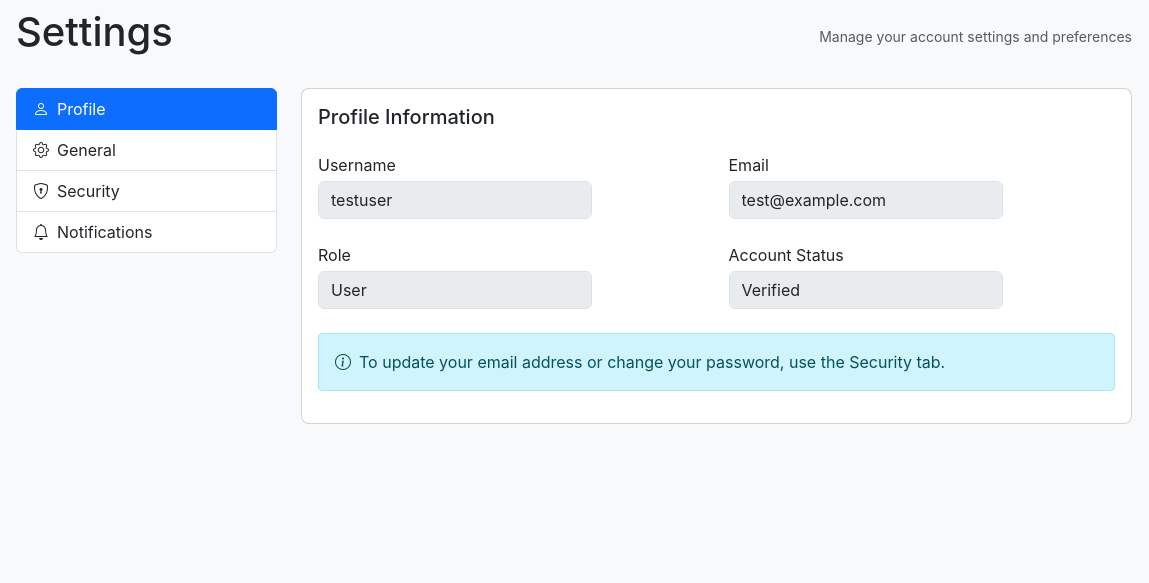
Test case: Settings Component › validates password mismatch
Click the button "Security": (88, 191) [16,171,277,212]
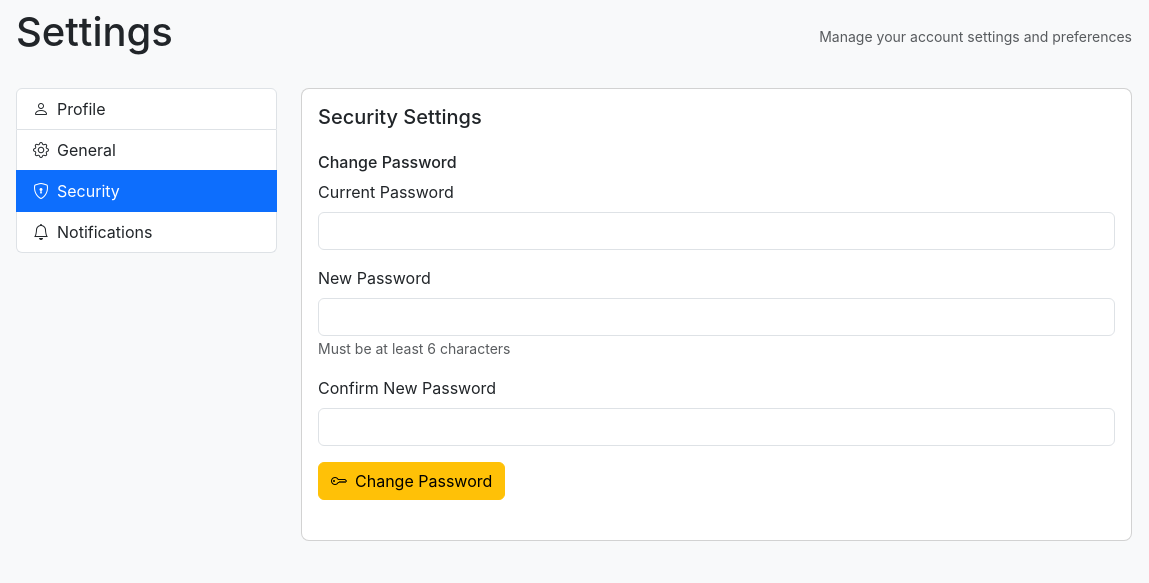
expect the password field labelled "Current Password" is shown: met
In the password field labelled "Current Password": (716, 231) [318,212,1115,250], type "oldPassword123"
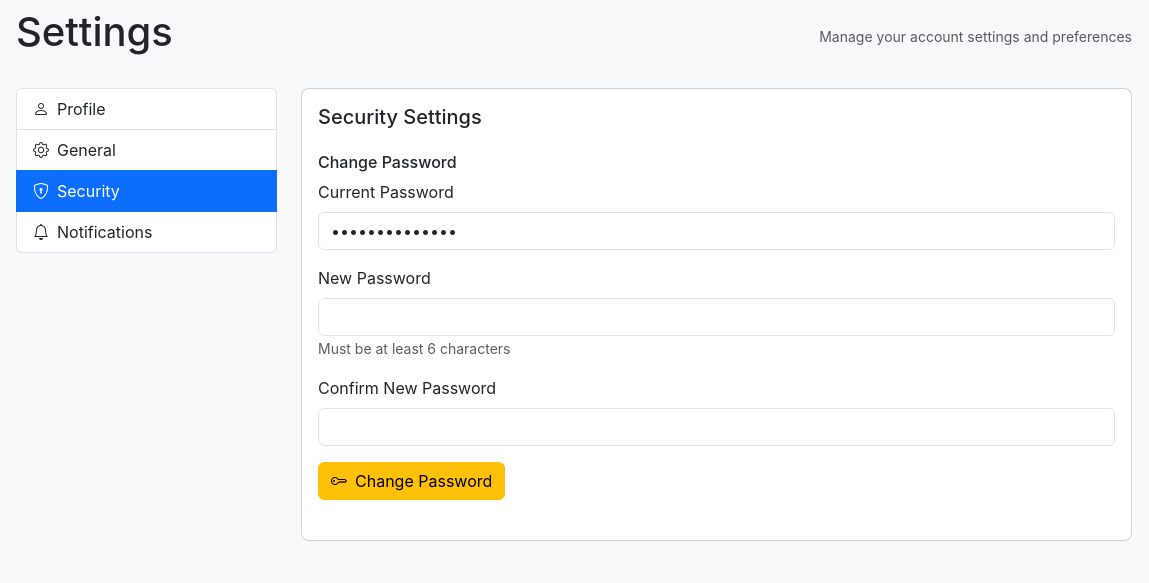
In the password field labelled "New Password": (716, 317) [318,298,1115,336], type "newPassword123"
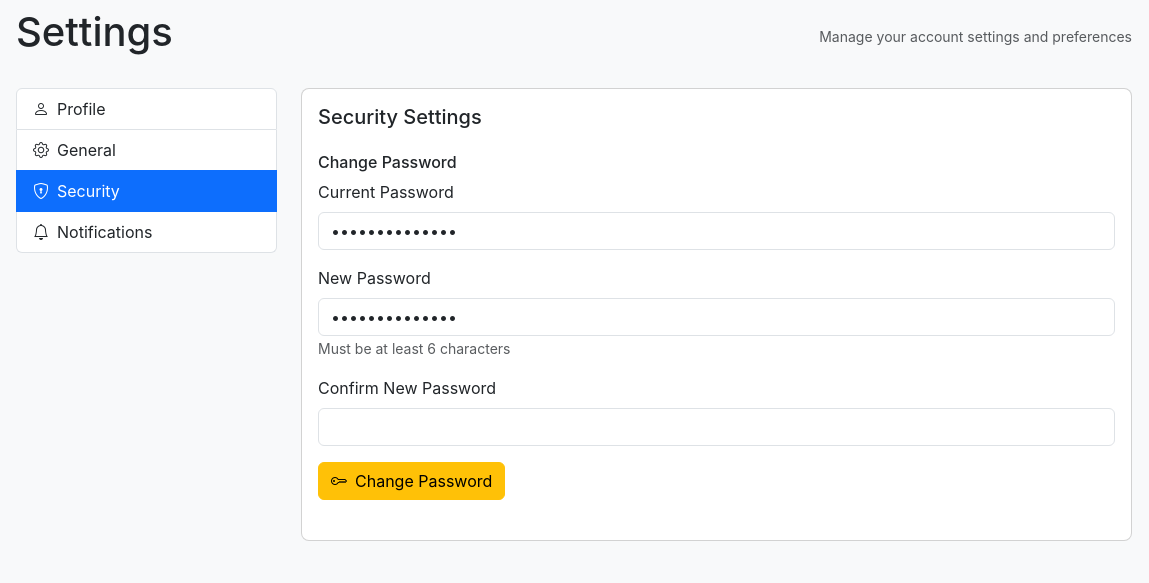
In the password field labelled "Confirm New Password": (716, 427) [318,408,1115,446], type "differentPassword"
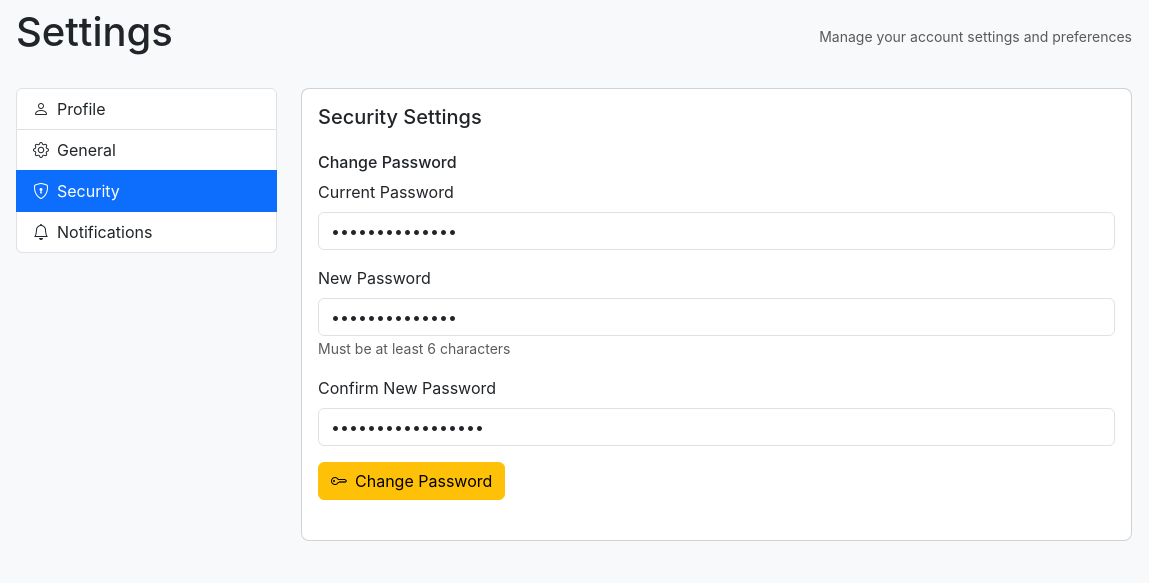
Click the button "Change Password": (412, 481) [318,462,505,500]
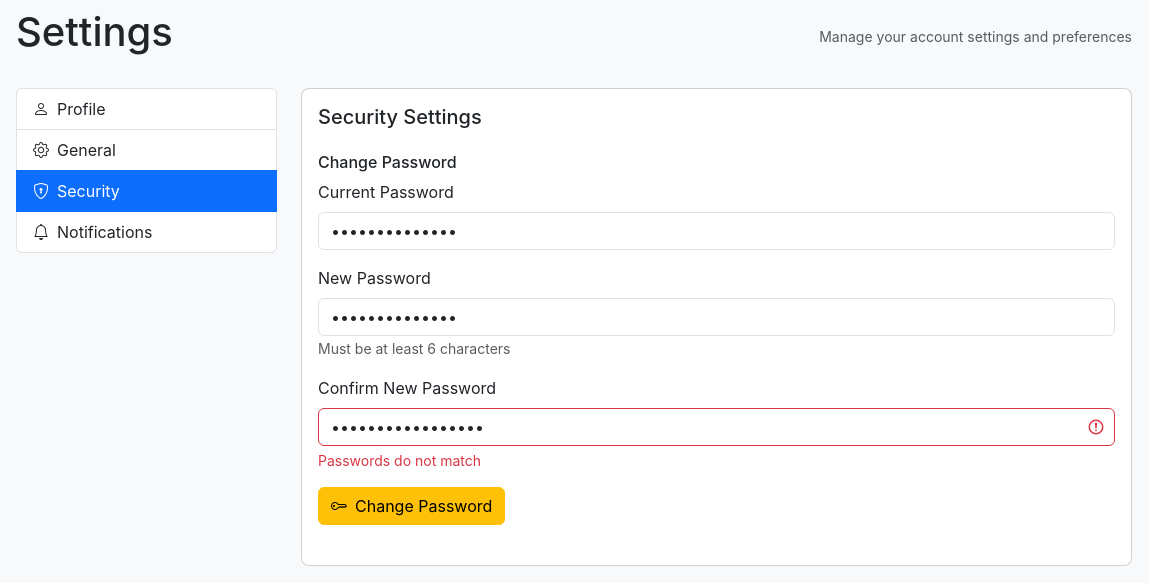
expect the text "Passwords do not match" is shown: met, box [318,452,481,469]
